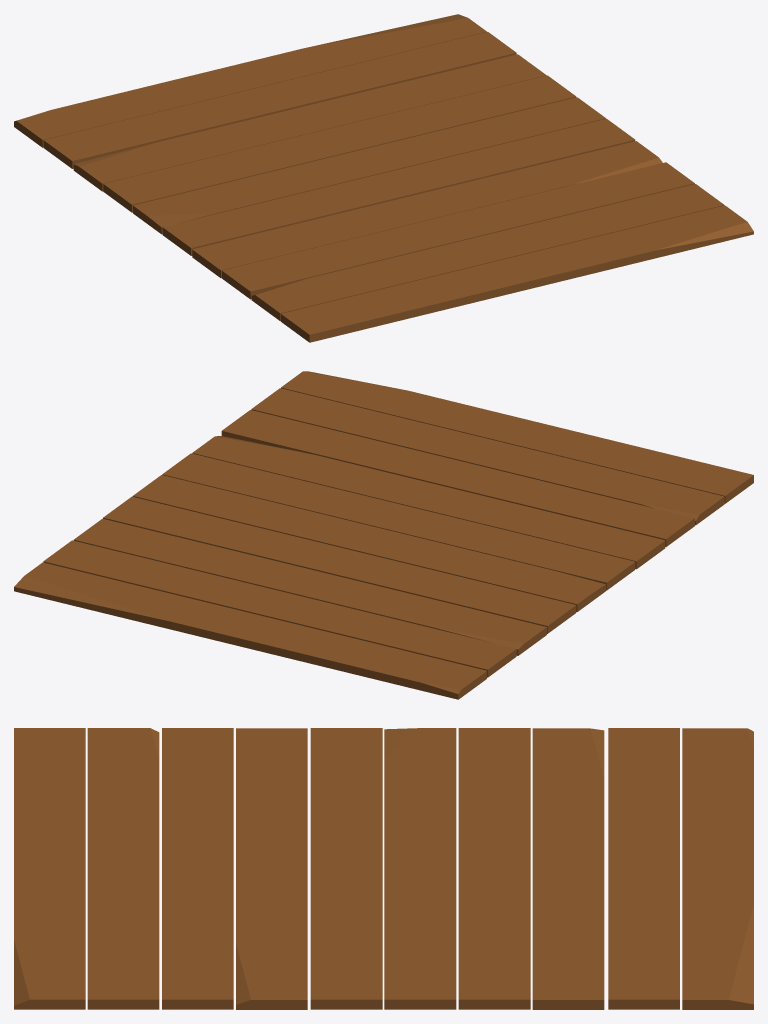
Rendered from RUIN_HOUSE_PLANKS.fbx.
The picture shows the model from 3 angles, top to bottom: view 1: azimuth 30°, elevation 25°; view 2: azimuth 150°, elevation 25°; view 3: azimuth 270°, elevation 25°; orthographic projection. The views are drawn at different scales.
Parts seen in each view (by area): view 1: Cube.157; view 2: Cube.157; view 3: Cube.157.
Part boxes in pixels (x1,y1,x2,y2): Cube.157: [14, 14, 753, 342]; Cube.157: [14, 371, 753, 699]; Cube.157: [14, 728, 753, 1009].
Size of the model in its own units: 2799 by 50.38 by 3224.
